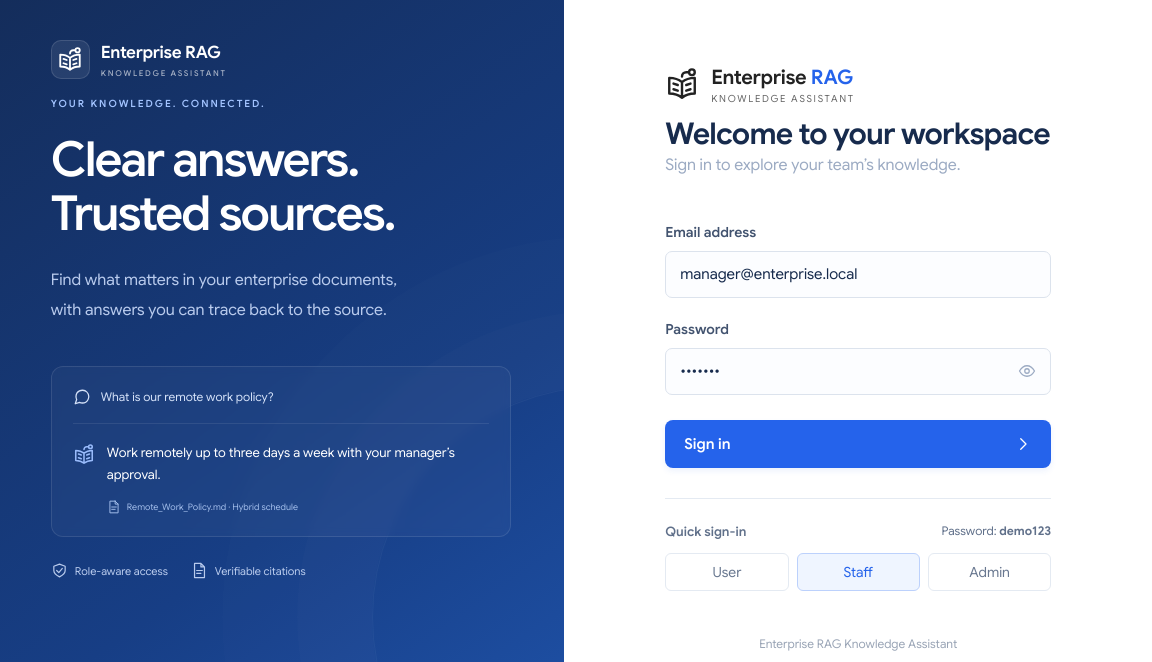
Sprint 4 frontend workflows › explains unsupported persistence and uses live search without a mock fallback
Click the button "Sign in" at (707, 444), box x1=665 y1=420 x2=1051 y2=468
(page scrolled)
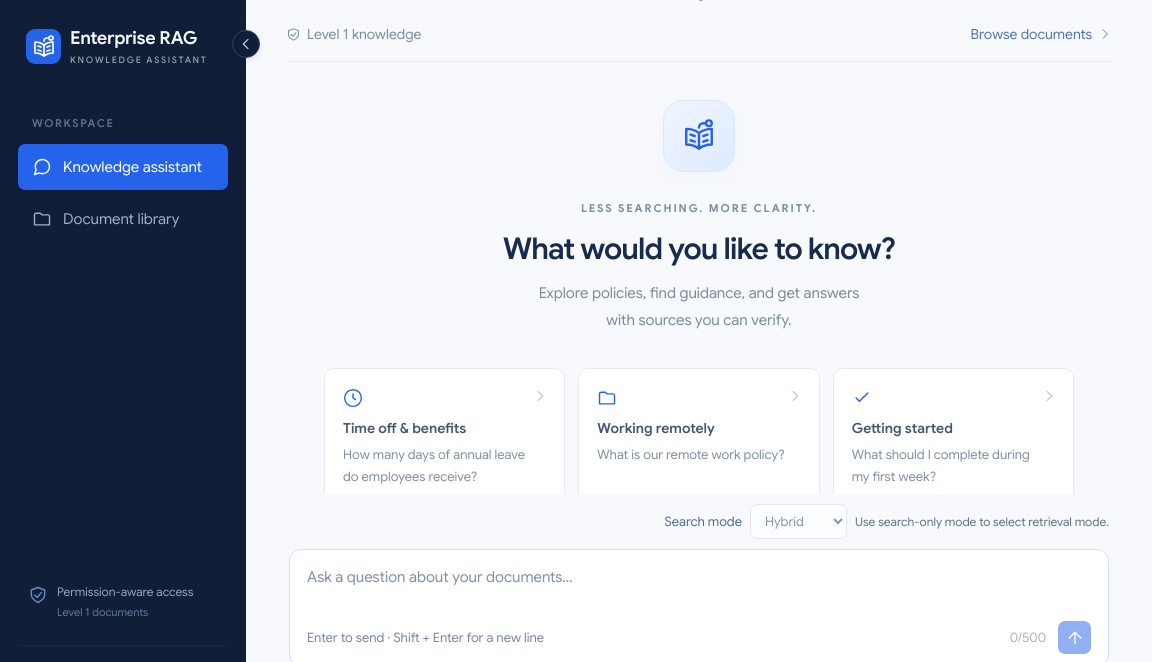
Type "annual leave" into the text box labelled "Ask a question about your documents" at (699, 590), box x1=307 y1=565 x2=1091 y2=616
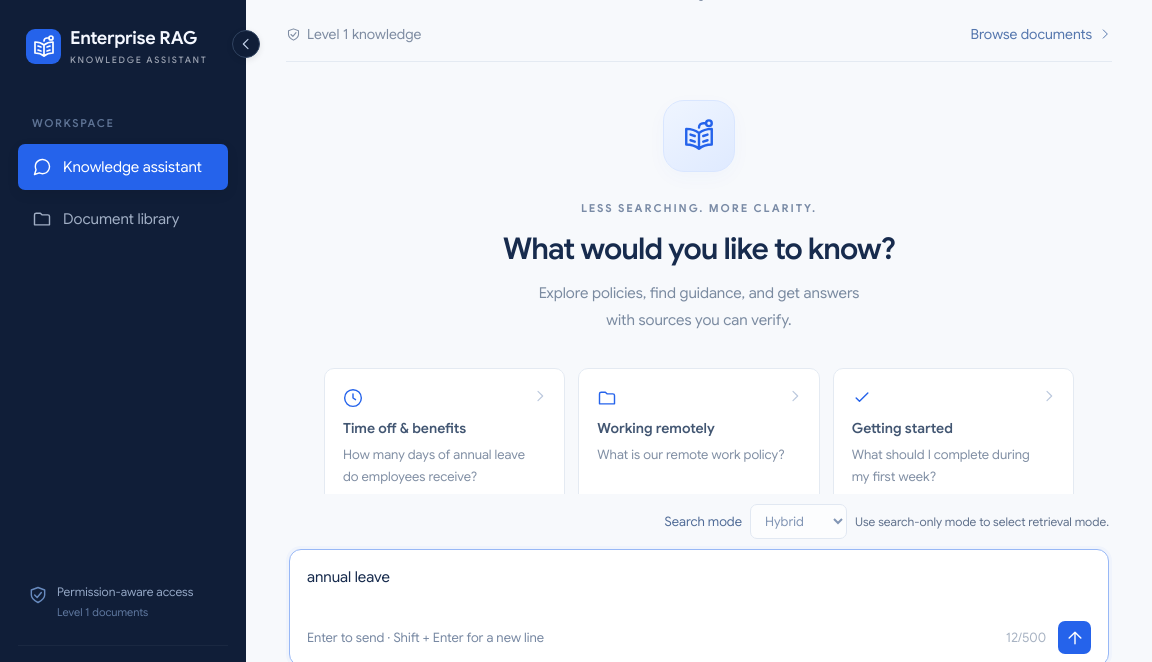
Click the button named "Send question" at (1074, 638), box x1=1058 y1=621 x2=1091 y2=654
(page scrolled)
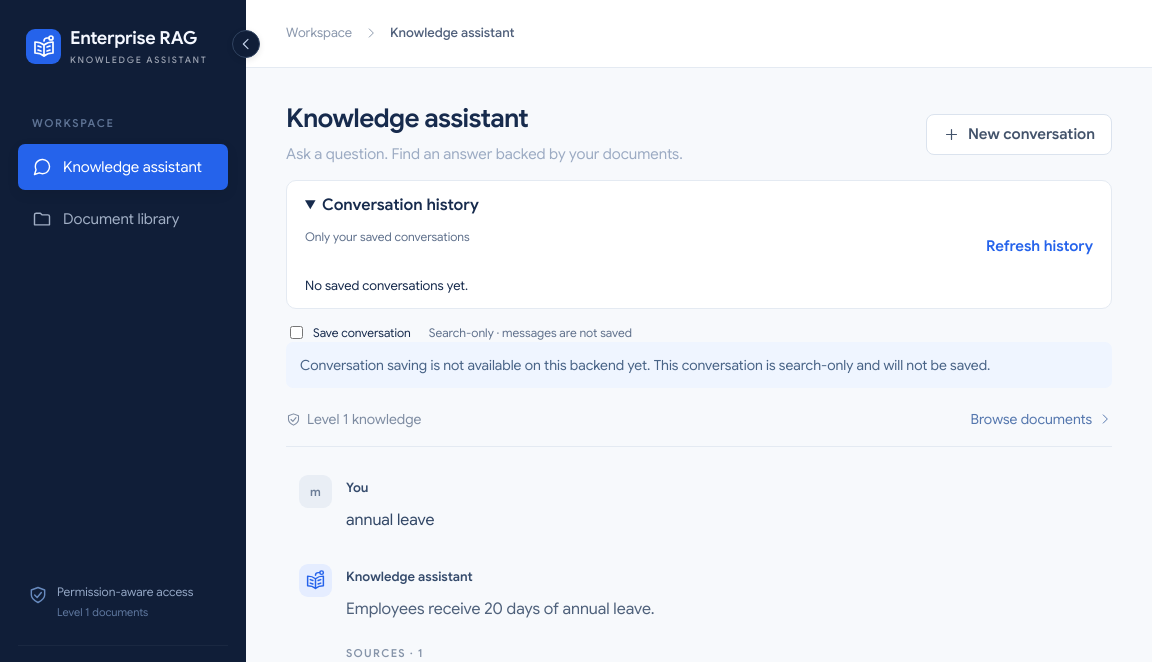
Expected: the text "This conversation is search-only and will not be saved" is shown, x1=300 y1=356 x2=990 y2=374
Expected: the checkbox labelled "Save conversation" is not checked, x1=290 y1=326 x2=303 y2=339
